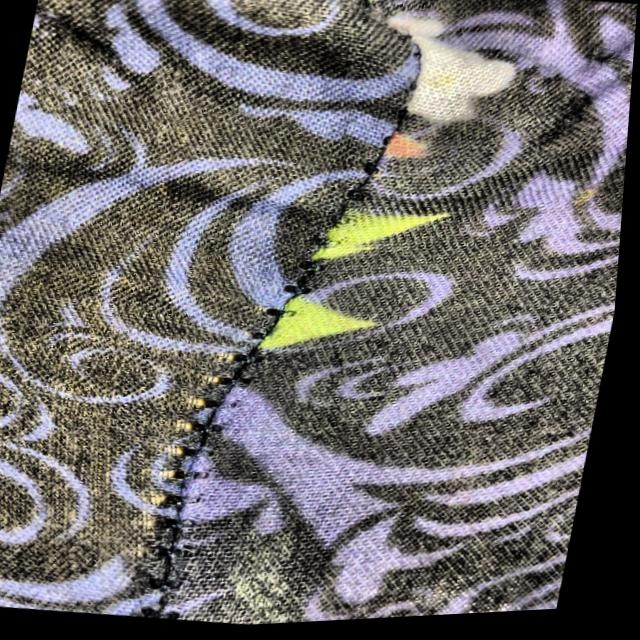seam: (76, 202, 389, 638)
